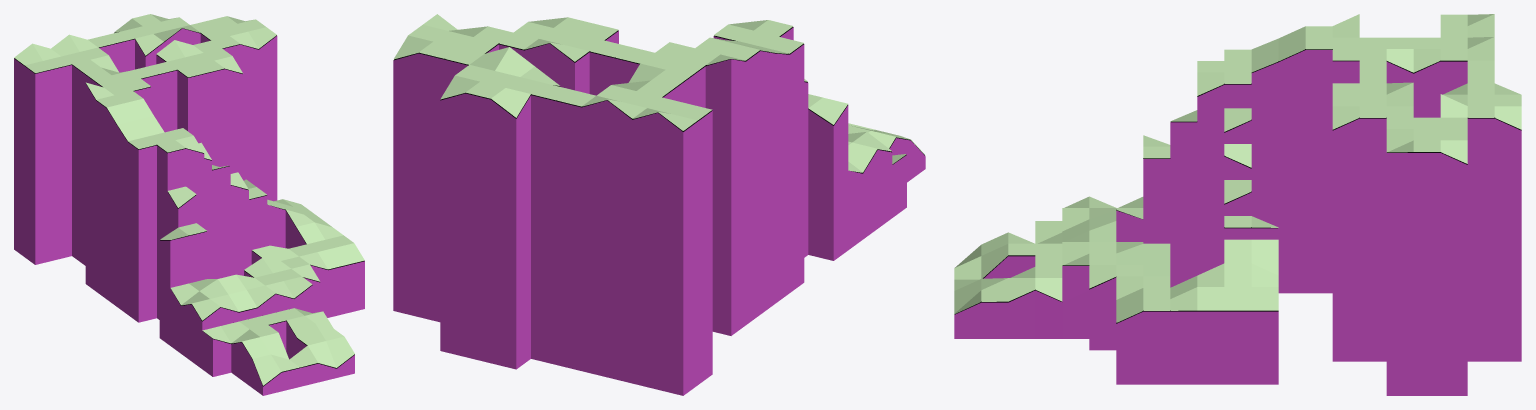
File: lvl4-lastStand-v2.glb
3 renders of one model, left to right at view 1: azimuth 30°, elevation 25°; view 2: azimuth 150°, elevation 25°; view 3: azimuth 270°, elevation 25°, orthographic. The views are drawn at different scales.
Visible parts, largest first — view 1: Terrain, Tile.006, Tile, Tile.003, Tile.005, Tile.001, Tile.047, Tile.063, Tile.037, Tile.064, Tile.113, Tile.109 (+19 smaller); view 2: Terrain, Tile.095, Tile.104, Tile.079, Tile.045, Tile.085, Tile.098, Tile.101; view 3: Terrain, Tile.076, Tile.071, Tile.067, Tile.070, Tile.072, Tile.074, Tile.082, Tile.085, Tile.103, Tile.002, Tile.007 (+24 smaller).
Boxes of the visible parts, bbox=[...] form: Terrain: bbox=[14, 27, 364, 395]; Tile.006: bbox=[326, 336, 354, 367]; Tile: bbox=[252, 354, 281, 385]; Tile.003: bbox=[260, 332, 288, 359]; Tile.005: bbox=[308, 341, 336, 367]; Tile.001: bbox=[242, 337, 270, 358]; Tile.047: bbox=[228, 290, 257, 311]; Tile.063: bbox=[336, 243, 364, 264]; Tile.037: bbox=[107, 103, 135, 124]; Tile.064: bbox=[296, 222, 324, 243]; Tile.113: bbox=[317, 247, 346, 269]; Tile.109: bbox=[125, 98, 153, 120]; Terrain: bbox=[393, 27, 925, 395]; Tile.095: bbox=[495, 47, 534, 76]; Tile.104: bbox=[491, 88, 530, 117]; Tile.079: bbox=[808, 97, 847, 124]; Tile.045: bbox=[848, 142, 877, 172]; Tile.085: bbox=[470, 47, 509, 70]; Tile.098: bbox=[394, 35, 432, 58]; Tile.101: bbox=[440, 75, 479, 99]; Terrain: bbox=[954, 49, 1521, 395]; Tile.076: bbox=[1251, 239, 1278, 275]; Tile.071: bbox=[1224, 239, 1251, 263]; Tile.067: bbox=[1224, 287, 1251, 310]; Tile.070: bbox=[1197, 287, 1224, 310]; Tile.072: bbox=[1224, 263, 1251, 286]; Tile.074: bbox=[1251, 287, 1278, 310]; Tile.082: bbox=[1386, 82, 1413, 106]; Tile.085: bbox=[1440, 94, 1467, 117]; Tile.103: bbox=[1467, 37, 1494, 60]; Tile.002: bbox=[954, 256, 981, 279]; Tile.007: bbox=[981, 278, 1008, 301].
Bounding box in the file's own units: 12 × 10.47 × 21.
